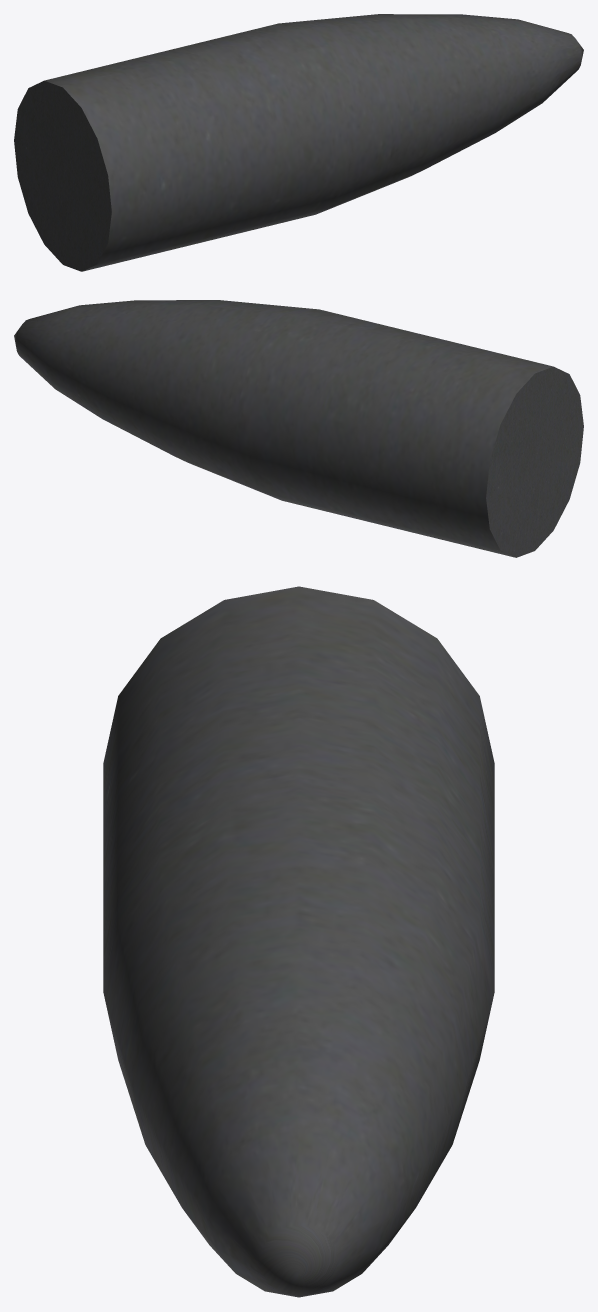
File: Projectile4.dae
The picture shows the model from 3 angles, top to bottom: view 1: azimuth 30°, elevation 25°; view 2: azimuth 150°, elevation 25°; view 3: azimuth 270°, elevation 25°; orthographic projection. The views are drawn at different scales.
Visible parts, largest first — view 1: Projectile4; view 2: Projectile4; view 3: Projectile4.
Part boxes in pixels (x1=…): Projectile4: x1=14, y1=14, x2=583, y2=271; Projectile4: x1=14, y1=300, x2=583, y2=557; Projectile4: x1=103, y1=586, x2=494, y2=1297.
Bounding box in the file's own units: 0.0165 × 0.00537 × 0.00537.
